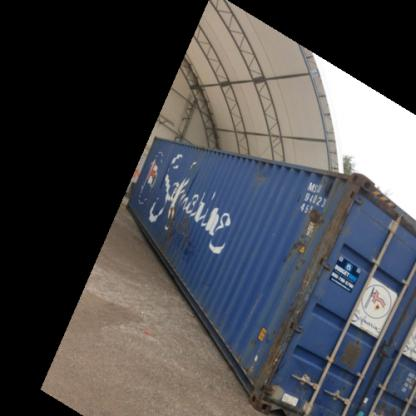Damage: (260, 294, 310, 377), (156, 206, 198, 256), (338, 332, 367, 372), (280, 236, 310, 269), (300, 196, 322, 224), (248, 164, 276, 184)
